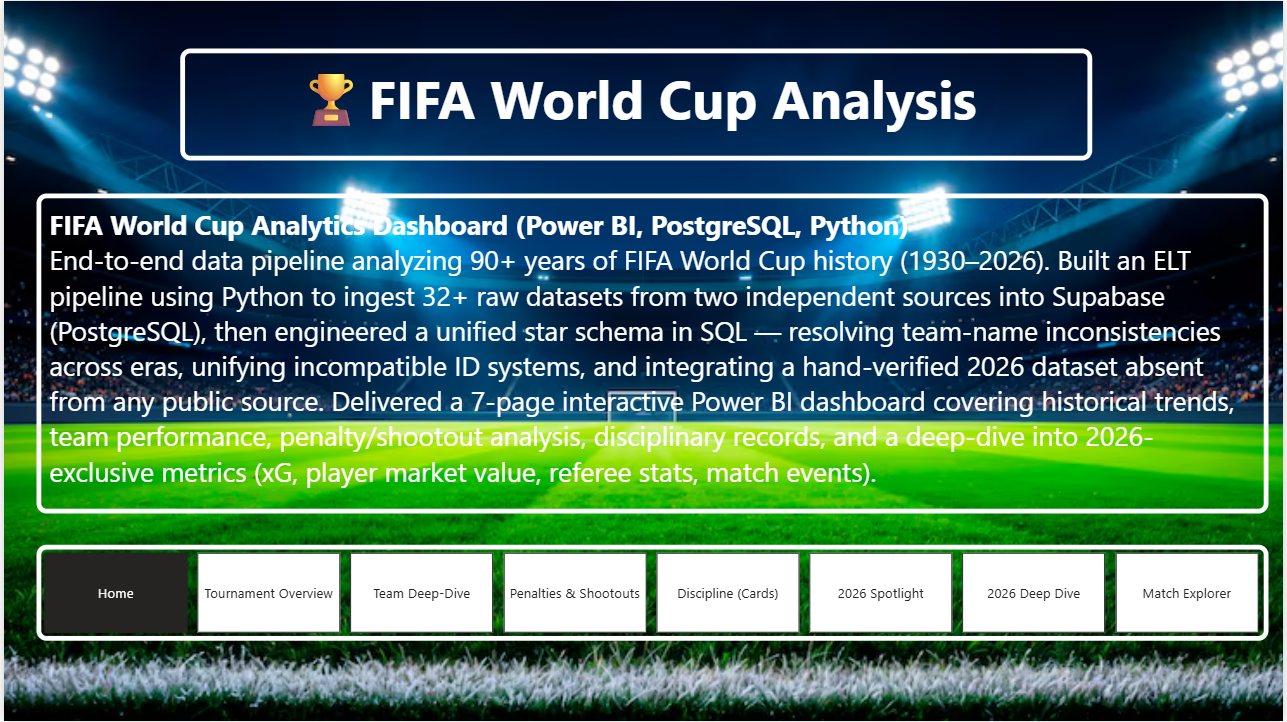

The page's visual inventory and layout, read from the dashboard file:
{"tool":"powerbi","page":{"name":"Home","canvas":[1280,720],"ordinal":0},"visuals":[{"type":"textbox","box":[176,48,912,112],"z":0},{"type":"pageNavigator","box":[32,544,1232,96],"z":1000},{"type":"textbox","box":[32,192,1232,320],"z":1001}]}

Visuals, with their boxes in screenshot pixels (x1, y1, x2, y2), scaled from the page's 1280x720 canvas onto the 1287x722 screenshot:
textbox: left=177, top=48, right=1094, bottom=160
pageNavigator: left=32, top=546, right=1271, bottom=642
textbox: left=32, top=193, right=1271, bottom=513
